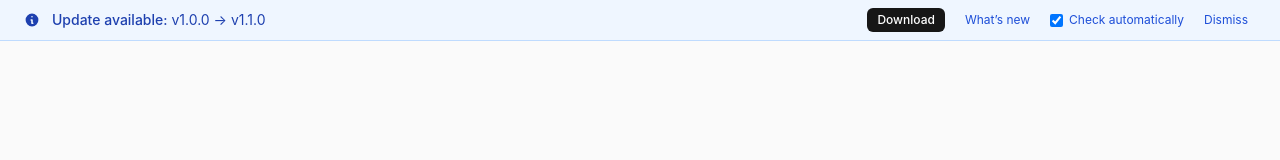
Test: UpdateBanner › shows a shell-plugin error when the release page cannot be opened
What coordinates should you click on to do the following:
click the button "Download"
I would click on:
 (906, 20)
Its box is [867,8,945,32].
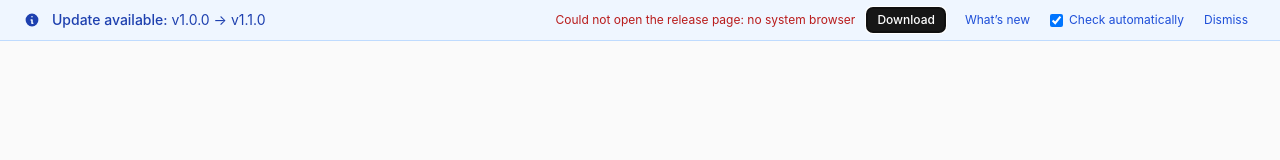
Check: the message reads "Could not open the release page: no system browser", box [556,12,855,27]
